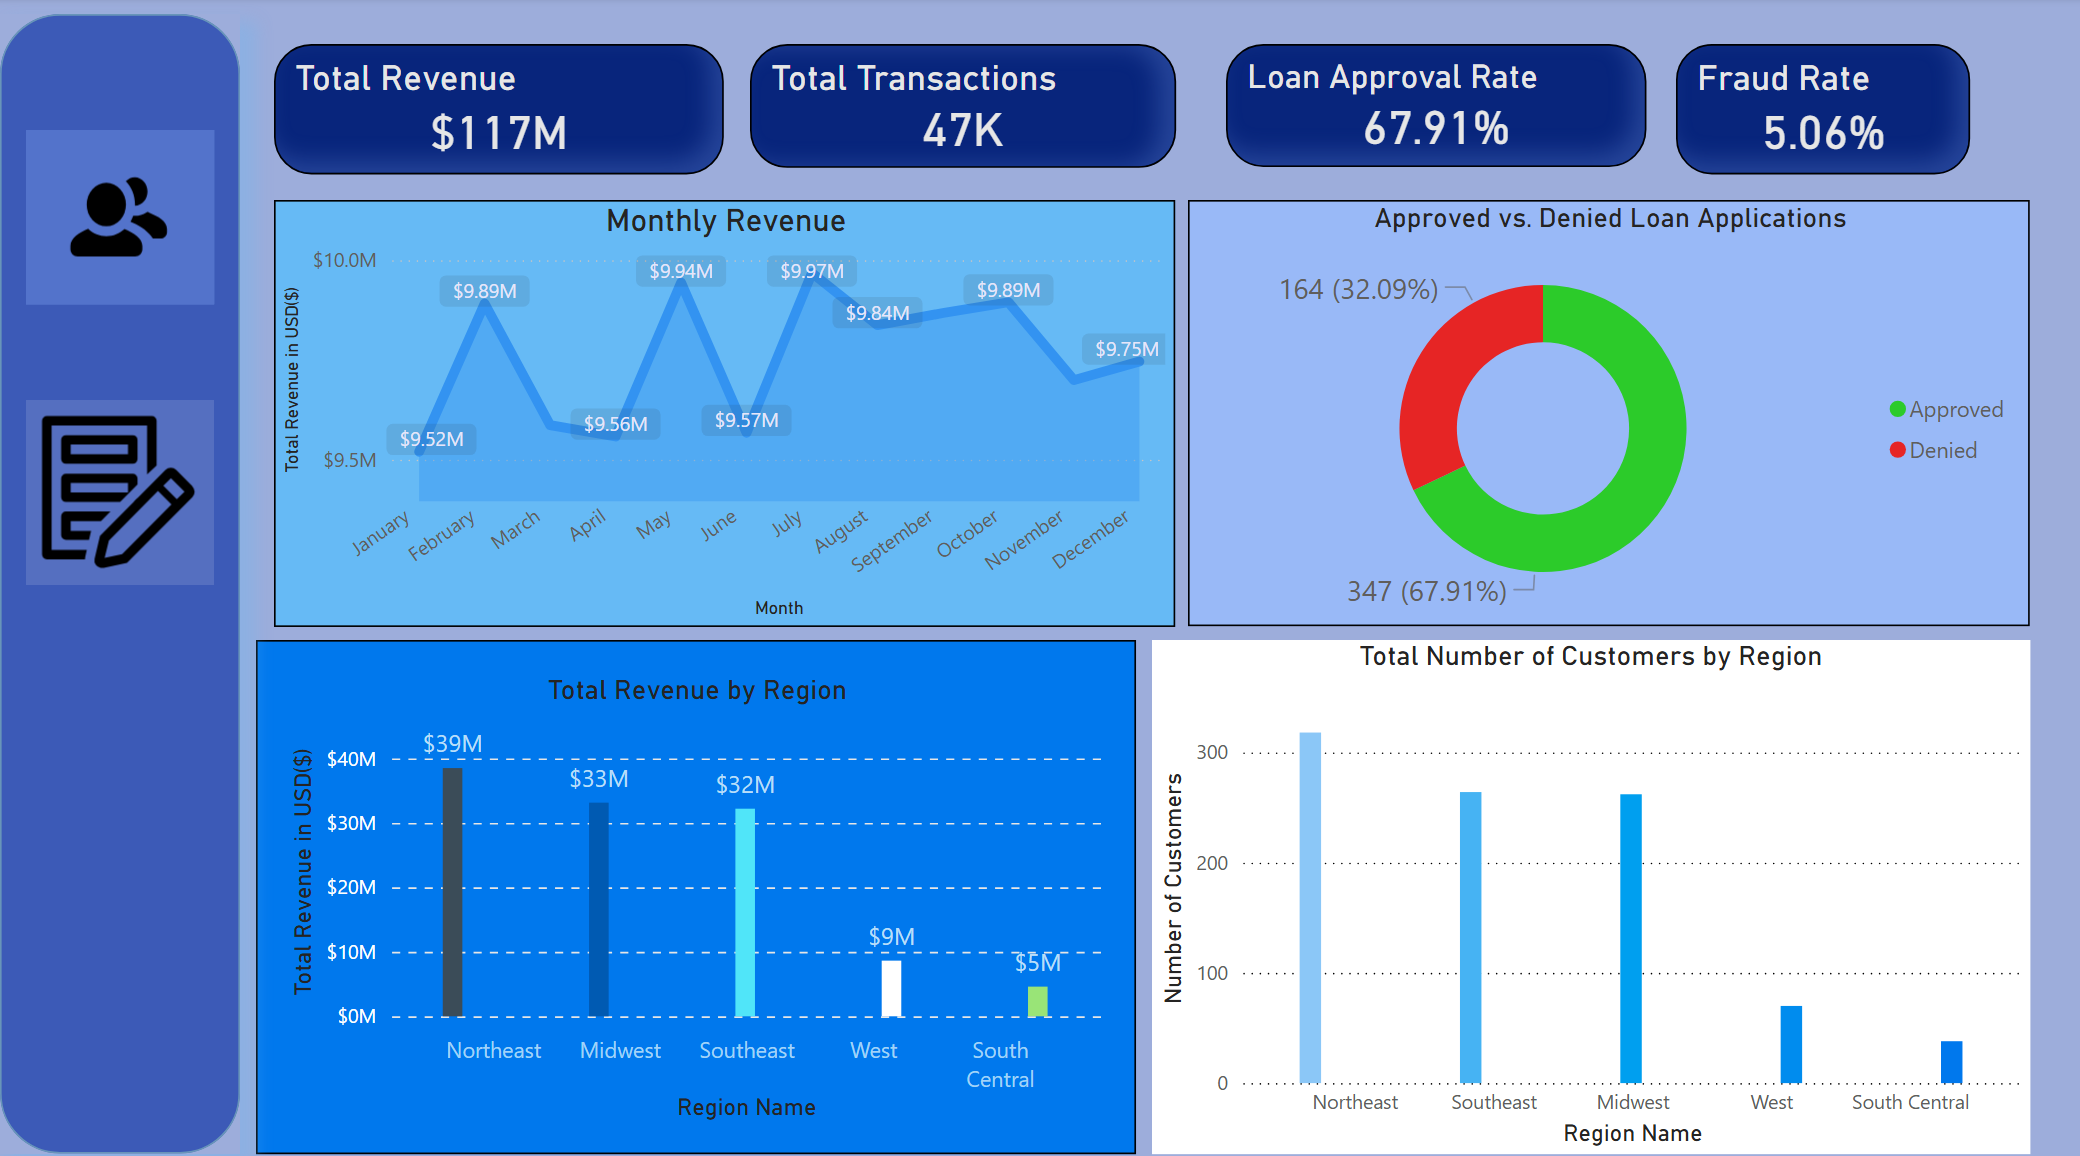

This screenshot's page, from the dashboard's own definition file:
{"tool":"powerbi","page":{"name":"Executive Overview","canvas":[1280,720],"ordinal":0},"visuals":[{"type":"card","title":"Total Transactions","fields":{"Values":["Transactions.Total Transactions"]},"box":[460.2,29.5,261.4,76.1],"z":0},{"type":"card","title":"Total Revenue","fields":{"Values":["Transactions.Total Revenue"]},"box":[167.8,29.7,276.2,80.2],"z":1000},{"type":"card","title":"Loan Approval Rate","fields":{"Values":["Loan Applications.Loan Approval Rate %"]},"box":[752.2,30,257.8,75.6],"z":2000},{"type":"card","title":"Fraud Rate","fields":{"Values":["Transactions.Fraud Rate %"]},"box":[1028.4,29.5,180.4,79.8],"z":3000},{"type":"lineChart","title":"Monthly Revenue","fields":{"Y":["Transactions.Total Revenue"],"Category":["Transactions.Transaction Date.Variation.Date Hierarchy.Month"]},"box":[168,125.5,553.1,261.8],"z":4000},{"type":"clusteredColumnChart","title":"Total Revenue by Region","fields":{"Y":["Sum(Regions.Total Revenue)"],"Category":["Regions.Region Name"],"Series":["Regions.Region Name"]},"box":[157.1,395.2,540,315.4],"z":5000},{"type":"donutChart","title":"Approved vs. Denied Loan Applications","fields":{"Series":["Loan Applications.Application Status"],"Y":["Loan Applications.Total Loan Applications"]},"box":[729,125.2,516.7,261.4],"z":6000},{"type":"clusteredColumnChart","title":"Total Number of Customers by Region","fields":{"Category":["Regions.Region Name"],"Y":["Customers.Number of Customers"],"Series":["Regions.Region Name"]},"box":[706.9,395.2,538.8,315.4],"z":7000},{"type":"shape","box":[0,10.9,147.3,699.3],"z":8000},{"type":"actionButton","box":[16.4,247.6,115.6,113.5],"z":10000},{"type":"actionButton","box":[16,82.2,115.4,106.8],"z":11000}]}

Visuals, with their boxes in screenshot pixels (x1, y1, x2, y2), scaled from the page's 1280x720 canvas onto the 2080x1156 screenshot:
"Total Transactions" card: 748:47:1173:170
"Total Revenue" card: 273:48:722:176
"Loan Approval Rate" card: 1222:48:1641:170
"Fraud Rate" card: 1671:47:1964:175
"Monthly Revenue" lineChart: 273:201:1172:622
"Total Revenue by Region" clusteredColumnChart: 255:635:1133:1141
"Approved vs. Denied Loan Applications" donutChart: 1185:201:2024:621
"Total Number of Customers by Region" clusteredColumnChart: 1149:635:2024:1141
shape: 0:18:239:1140
actionButton: 27:398:214:580
actionButton: 26:132:214:303
